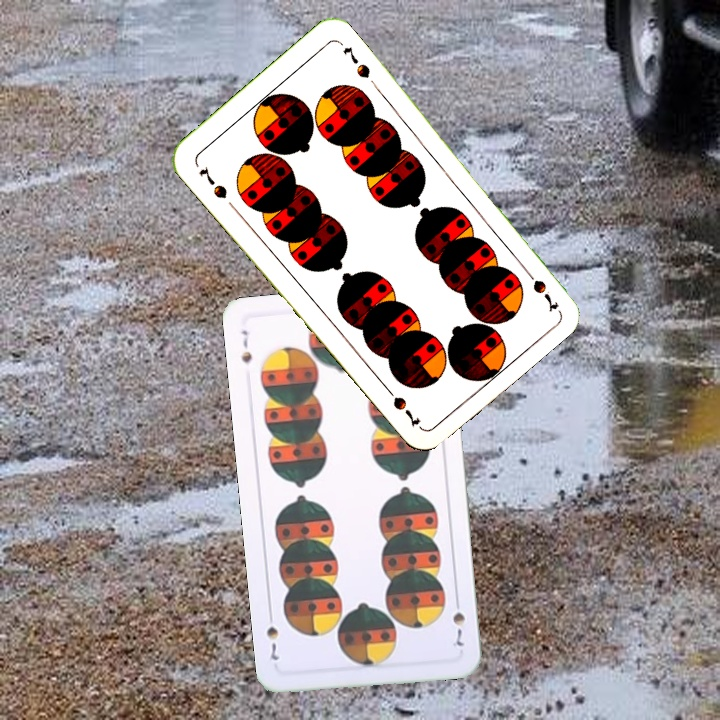S7: (518, 262, 562, 313), (194, 163, 230, 201), (448, 593, 468, 649), (237, 326, 255, 366)
